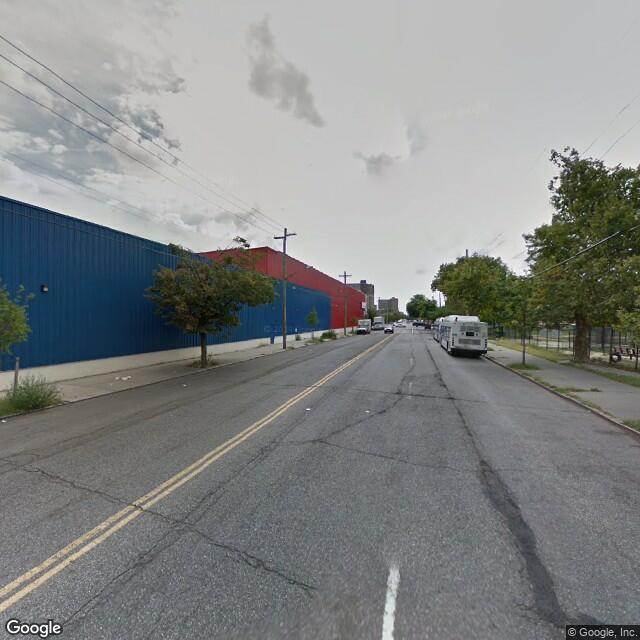litter: (114, 374, 133, 381), (179, 382, 187, 388), (364, 408, 371, 414), (585, 407, 591, 414), (303, 407, 313, 411), (1, 419, 6, 424)
